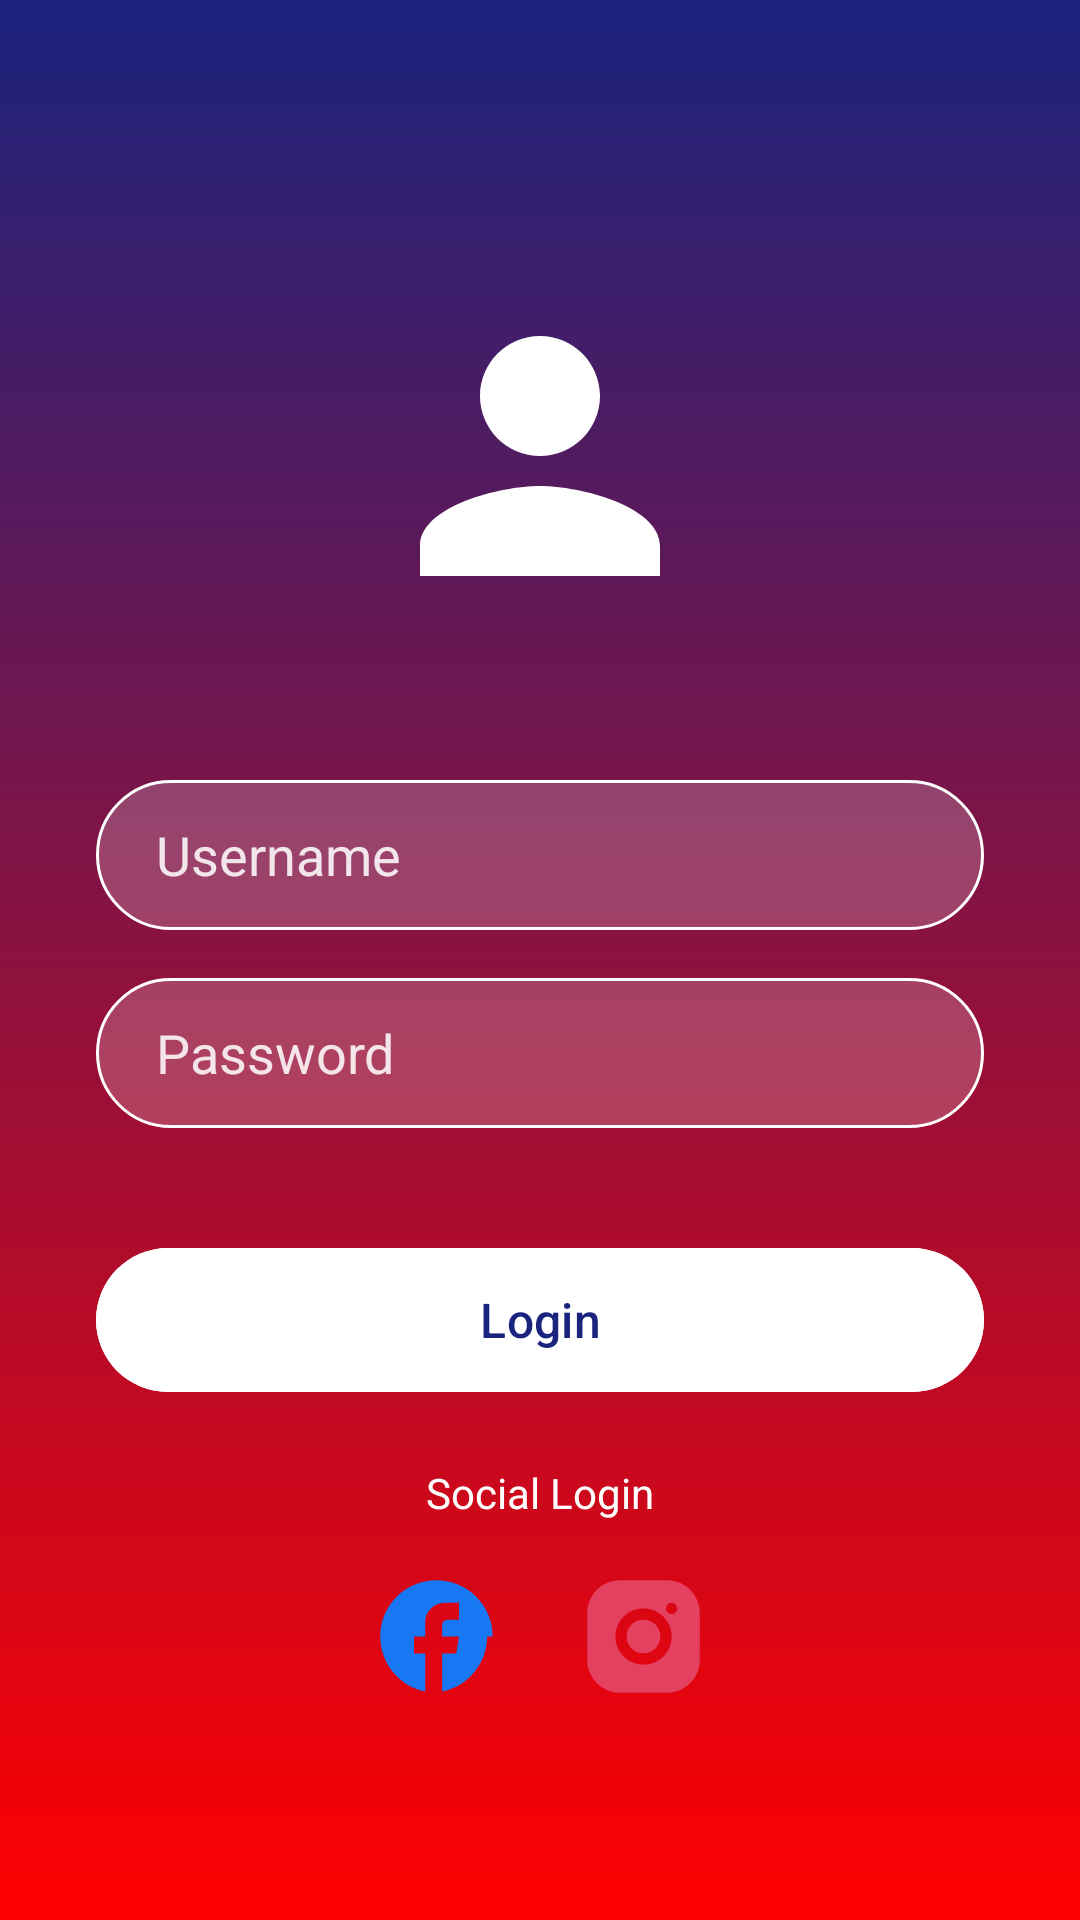

Screen size 1080px x 1920px. Icon name, then its center in pixels as (x=x, y=y):
User Icon: (x=540, y=456)
